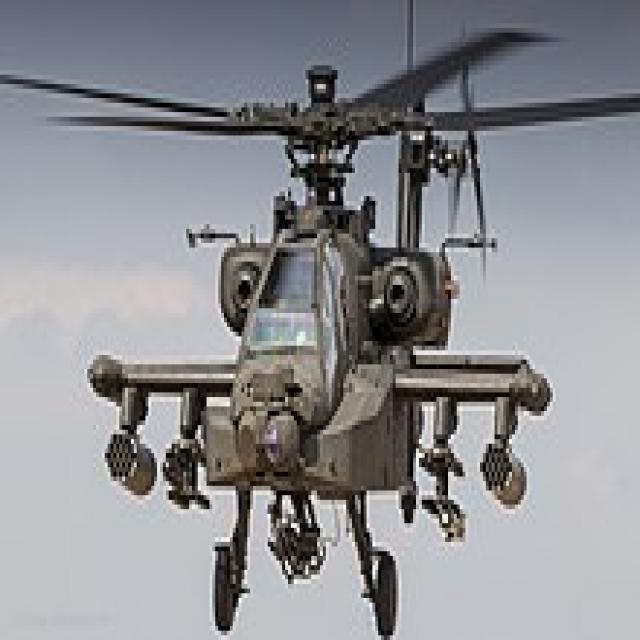Apache: (6, 18, 640, 640)
